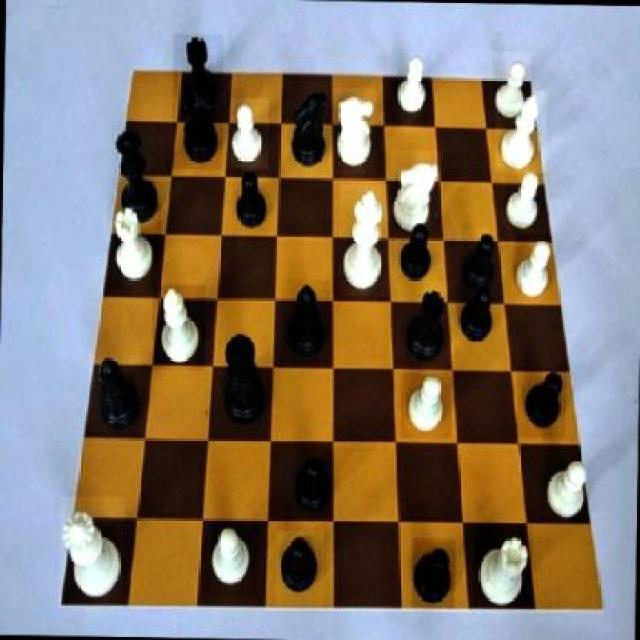bishop: (86, 354, 149, 433), (278, 278, 331, 368)
black-bishop: (217, 321, 272, 437)
black-king: (283, 78, 332, 178), (172, 81, 225, 170)
black-knight: (275, 530, 323, 606), (516, 368, 566, 440), (456, 228, 506, 298), (454, 282, 503, 351), (410, 538, 454, 608), (394, 217, 436, 289), (296, 448, 334, 517), (232, 169, 268, 239)
black-pawn: (111, 122, 160, 228)
black-queen: (396, 280, 456, 372), (172, 34, 223, 118)
black-rook: (152, 284, 206, 370), (496, 89, 546, 173)
white-bishop: (338, 185, 392, 298)
white-king: (389, 151, 443, 240), (331, 88, 377, 174)
white-knight: (202, 518, 258, 596), (398, 365, 452, 440), (543, 454, 590, 528), (500, 166, 547, 236), (488, 50, 530, 124), (514, 234, 558, 303), (391, 48, 432, 120), (229, 98, 269, 168)
white-pawn: (59, 497, 124, 609)
white-queen: (474, 523, 533, 605), (108, 202, 160, 288)
